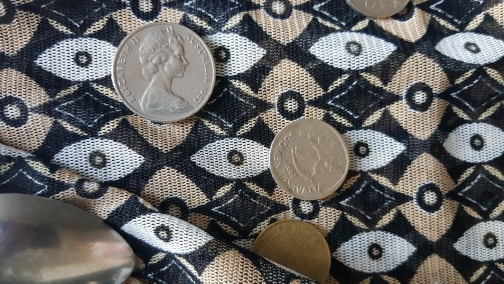coin: (111, 22, 216, 123), (268, 118, 350, 200), (249, 219, 332, 283)
